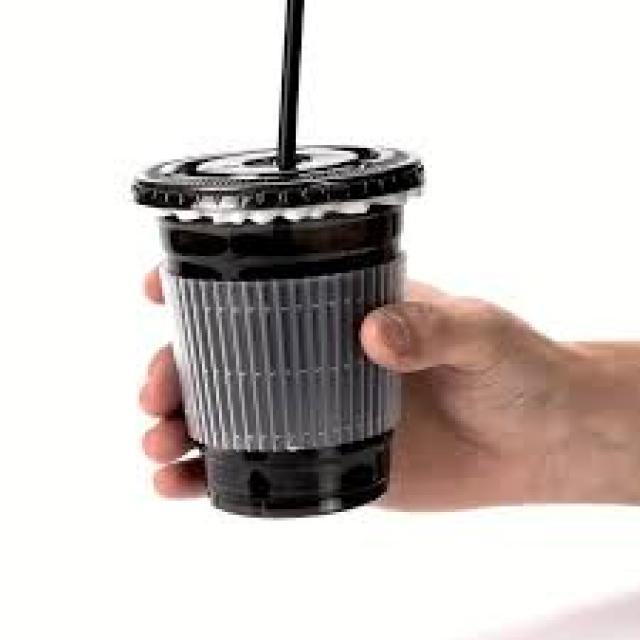bottle: (134, 146, 424, 514)
